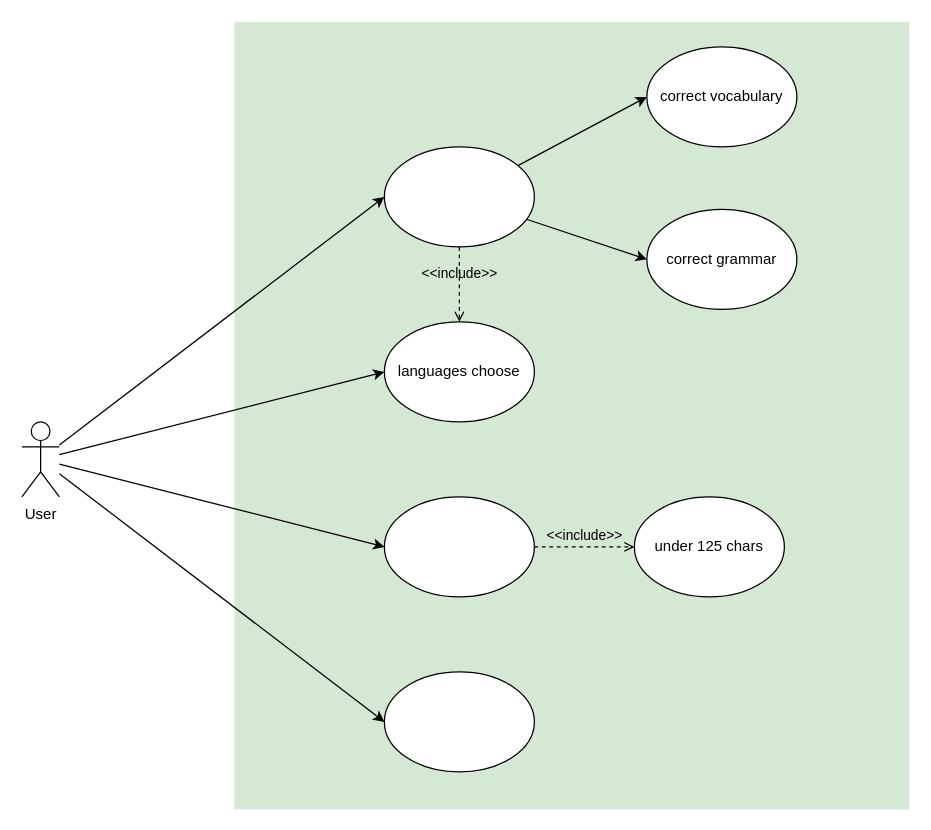
The diagram is 931 pixels wide and 830 high, and some of its shapes have lost their labels. The shapes that lost their labels are listed below. From the top down, each one's centre as x and y in pixels, then its label:
pixel 458 196: transfer
pixel 458 546: upload Doc: pdf, .docx, .txt
pixel 458 721: rephrase
